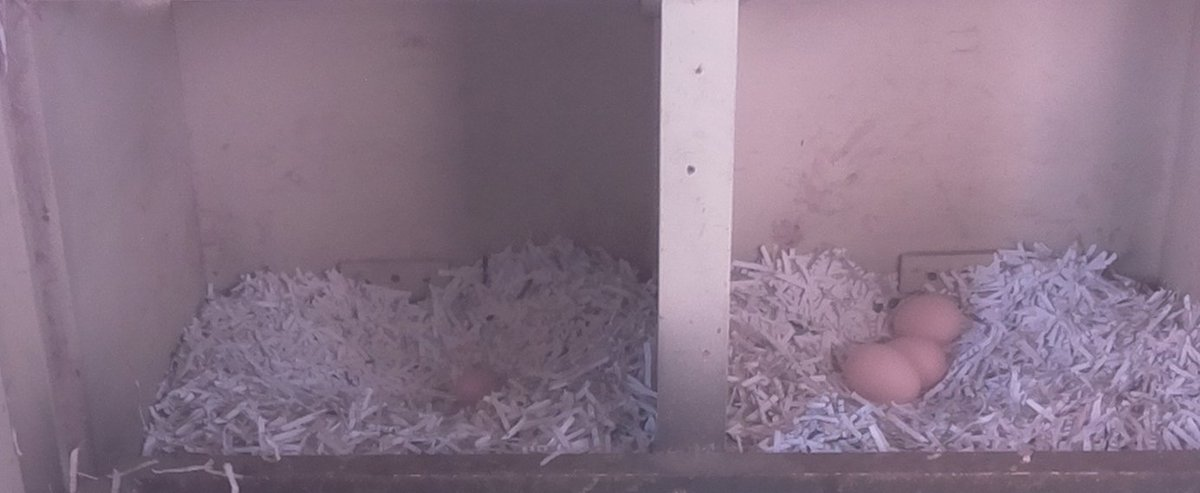egg: (841, 339, 924, 411), (887, 290, 969, 344), (879, 336, 952, 391)
